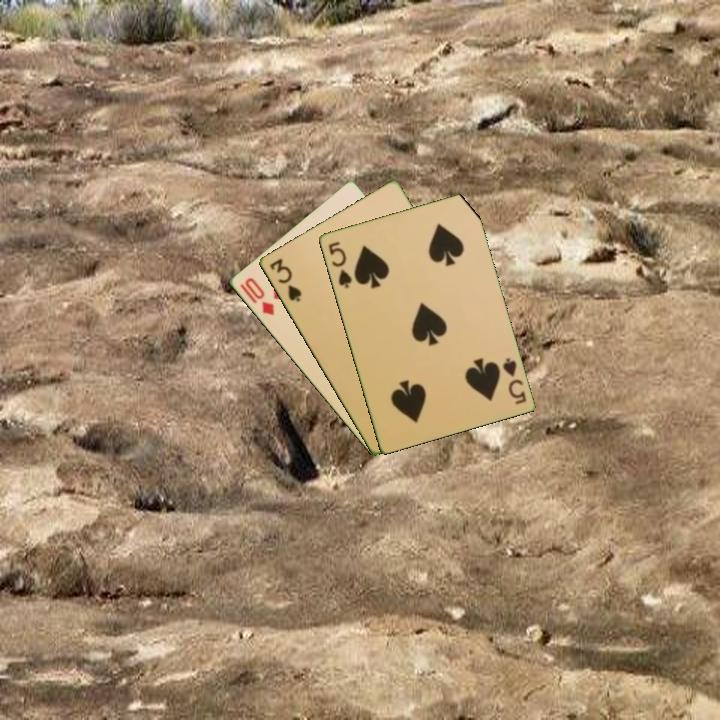10d: (241, 274, 277, 319)
3s: (266, 254, 304, 305)
5s: (498, 354, 529, 407), (324, 238, 354, 291)
